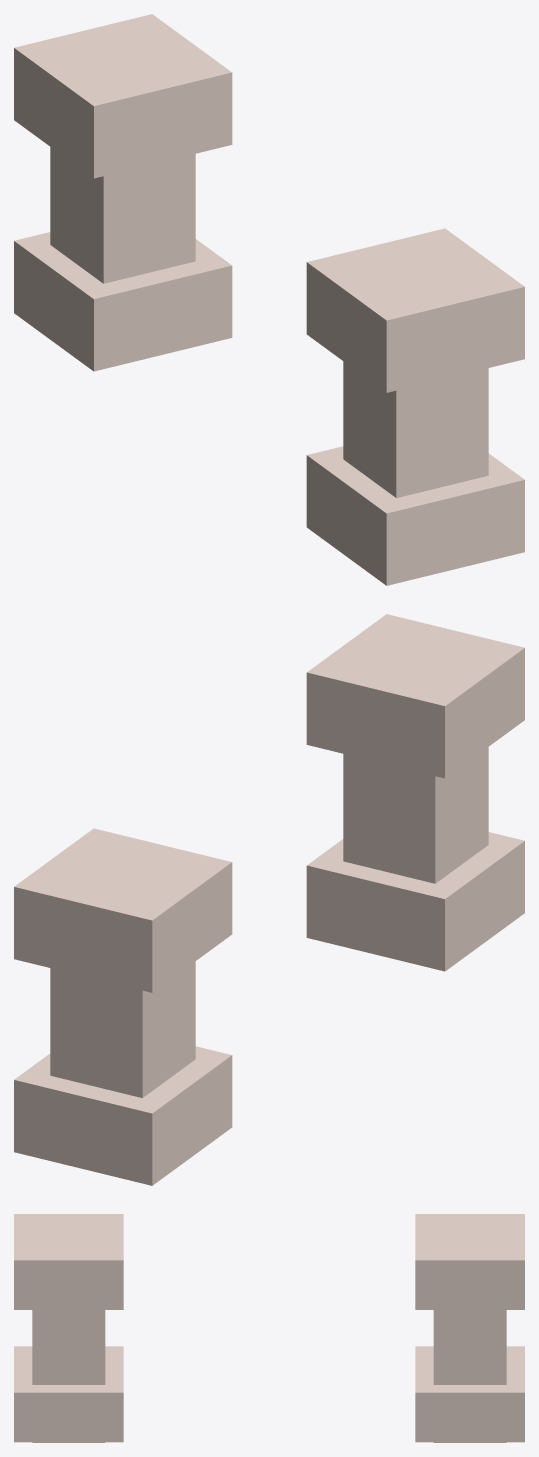
Rendered from just_pillars.glb.
3 renders of one model, top to bottom at view 1: azimuth 30°, elevation 25°; view 2: azimuth 150°, elevation 25°; view 3: azimuth 270°, elevation 25°, orthographic. The views are drawn at different scales.
Parts seen in each view (by area): view 1: pillars_side_b; view 2: pillars_side_b; view 3: pillars_side_b.
Part boxes in pixels (left/top/right/bottom): pillars_side_b: left=14, top=14, right=524, bottom=585; pillars_side_b: left=14, top=614, right=524, bottom=1185; pillars_side_b: left=14, top=1214, right=524, bottom=1442.
Size of the model in its own units: 0.375 by 0.7188 by 1.75.
Materials: 1 (1 with a texture image).
